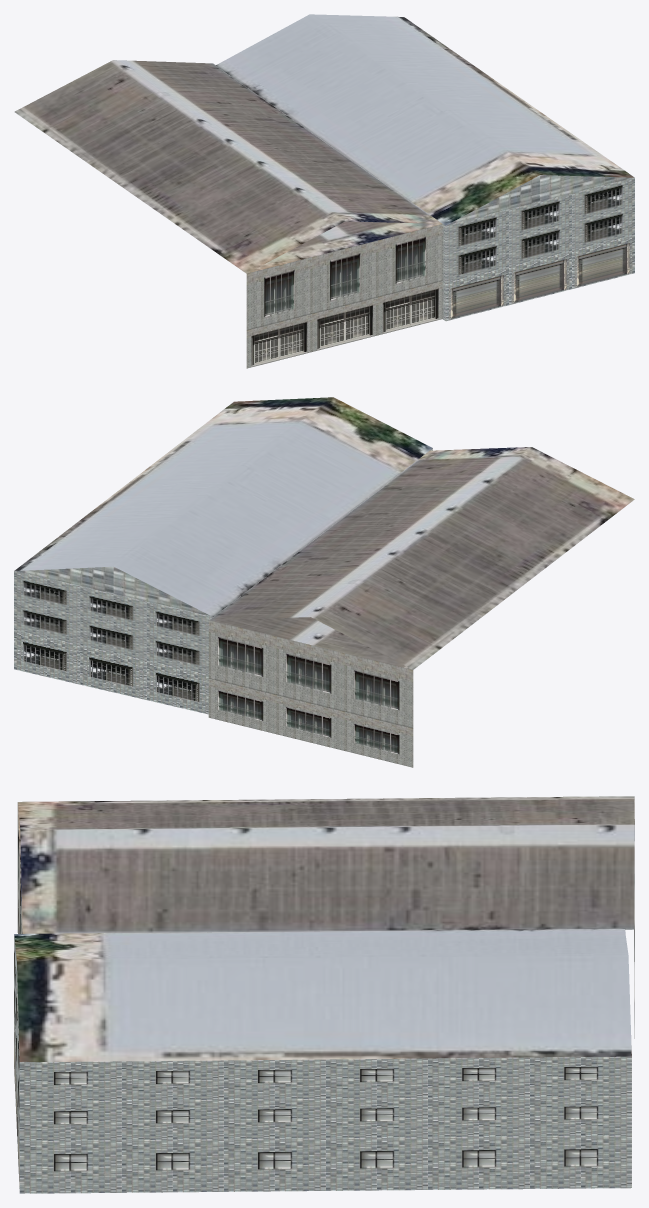
Rendered from tile_LOD8_r5_c6.glb.
3 renders of one model, top to bottom at view 1: azimuth 30°, elevation 25°; view 2: azimuth 150°, elevation 25°; view 3: azimuth 270°, elevation 25°, orthographic. The views are drawn at different scales.
Size of the model in its own units: 35.96 by 10.57 by 35.34.
10 materials, 10 textured.
